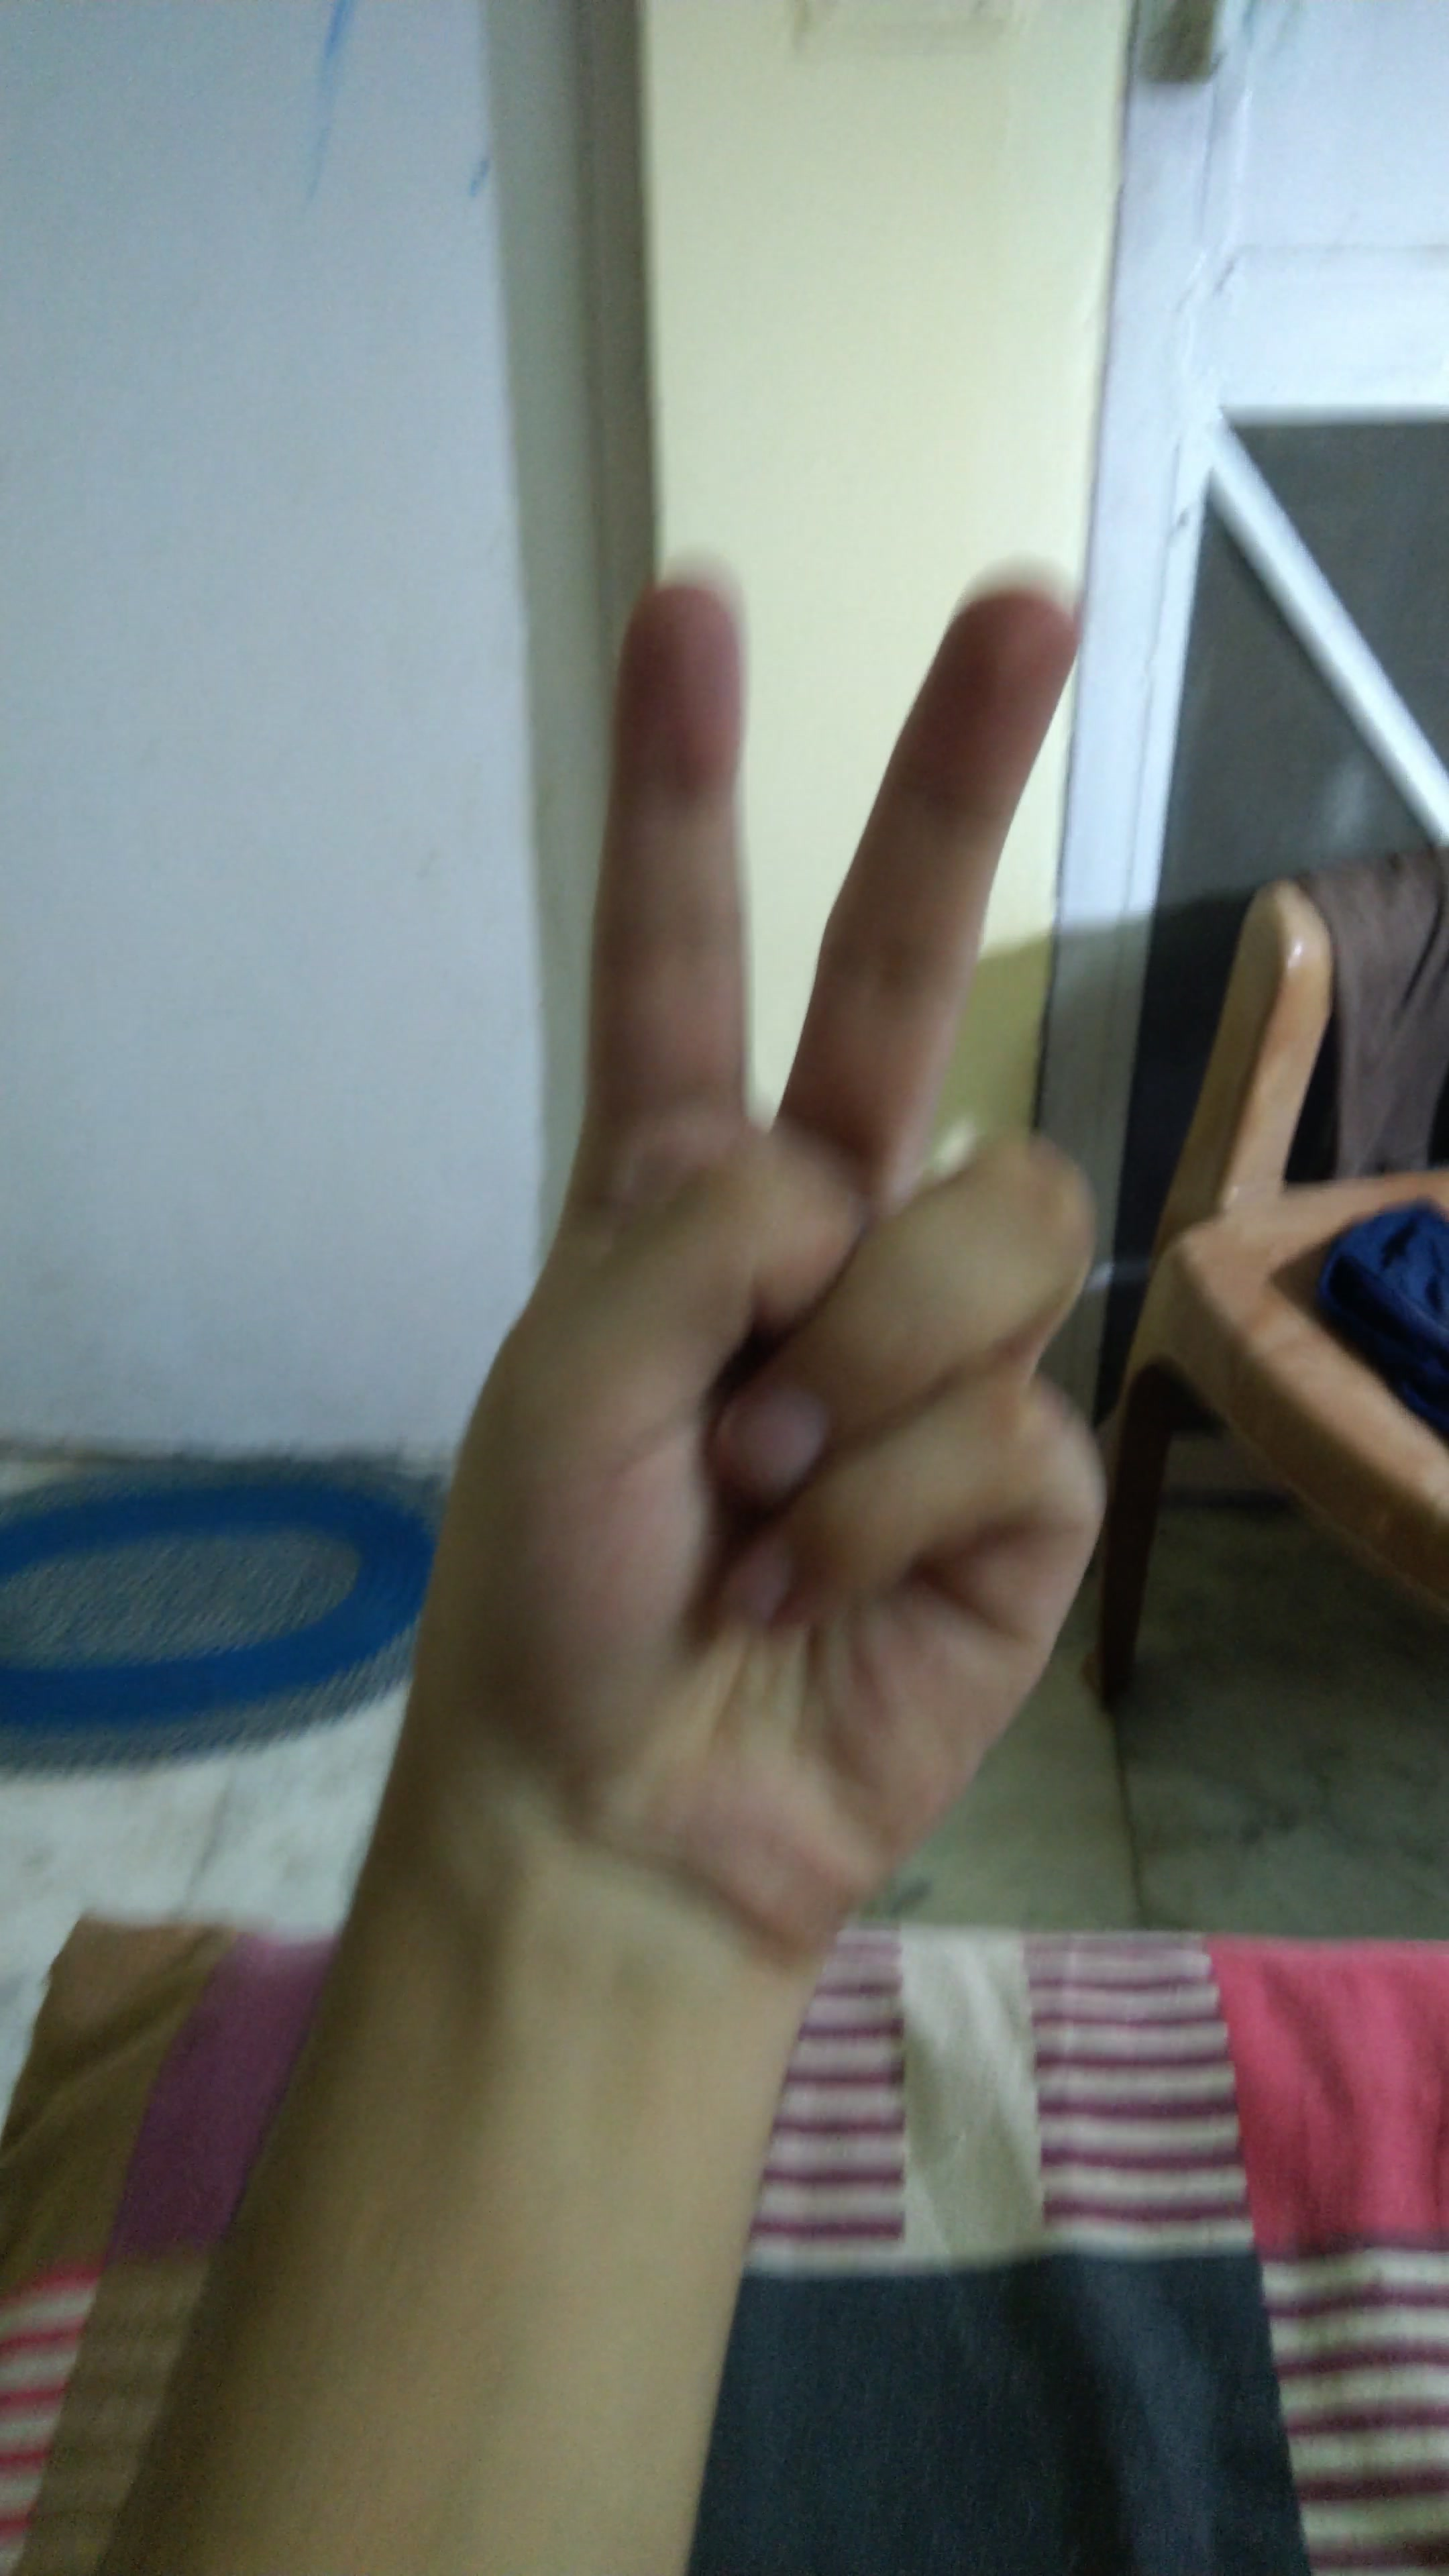hand: (255, 492, 1228, 2029)
